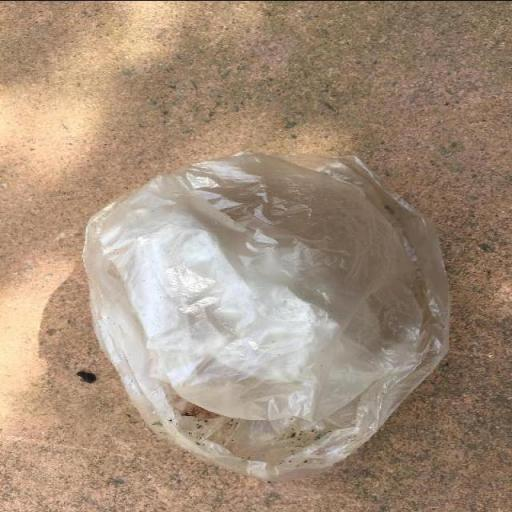plastic-bag: (78, 147, 456, 484)
